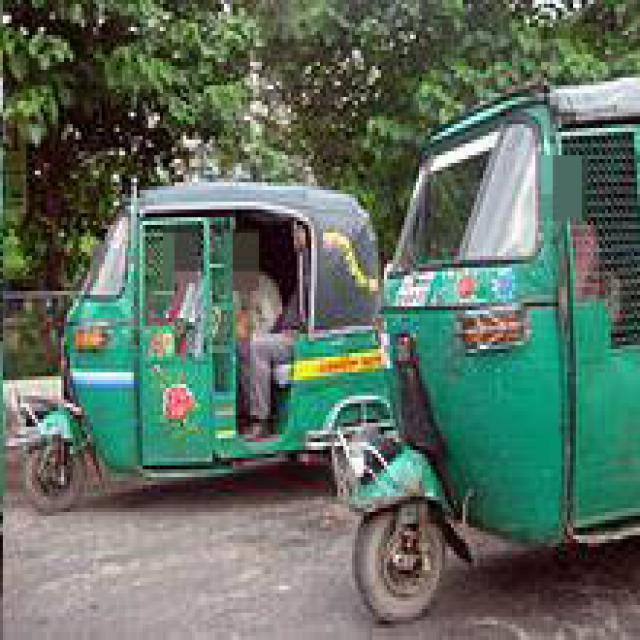CNG: (359, 71, 640, 636), (23, 178, 380, 546)
